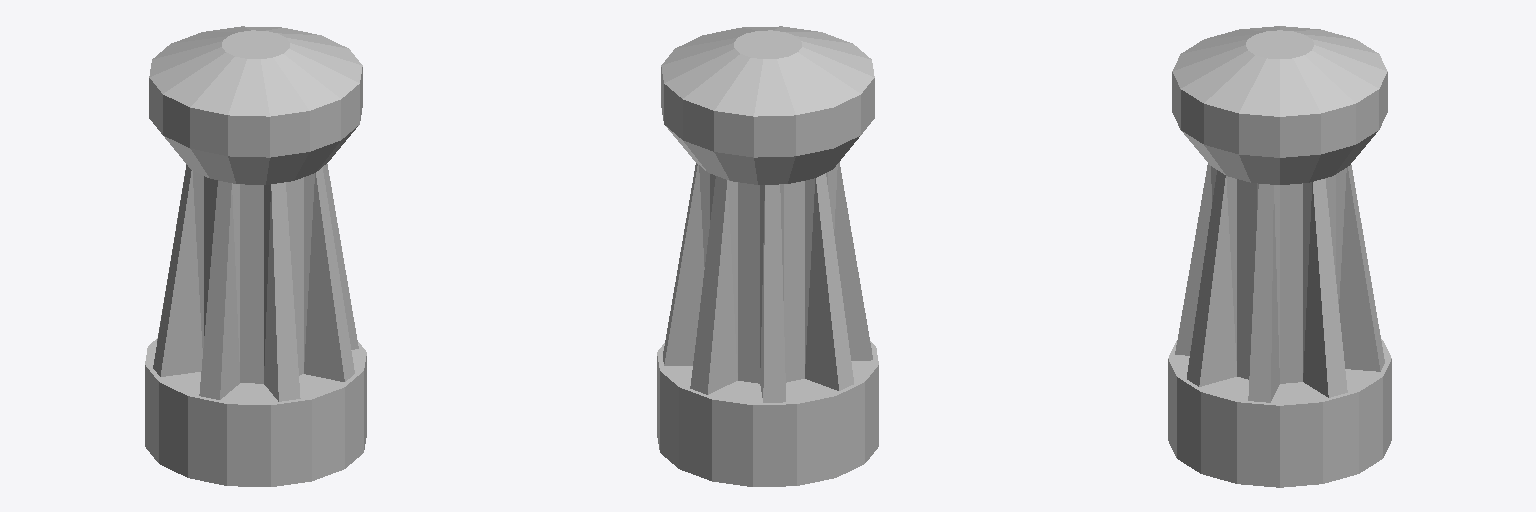
File: station_reactor.obj
3 views of the same model, side by side, from view 1: azimuth 30°, elevation 25°; view 2: azimuth 150°, elevation 25°; view 3: azimuth 270°, elevation 25° (orthographic).
Visible parts, largest first — view 1: Cylinder; view 2: Cylinder; view 3: Cylinder.
Part boxes in pixels (bbox=[...]): Cylinder: bbox=[145, 26, 366, 486]; Cylinder: bbox=[657, 26, 878, 486]; Cylinder: bbox=[1168, 26, 1391, 487].
Bounding box in the file's own units: 1.98 × 4.12 × 1.98.